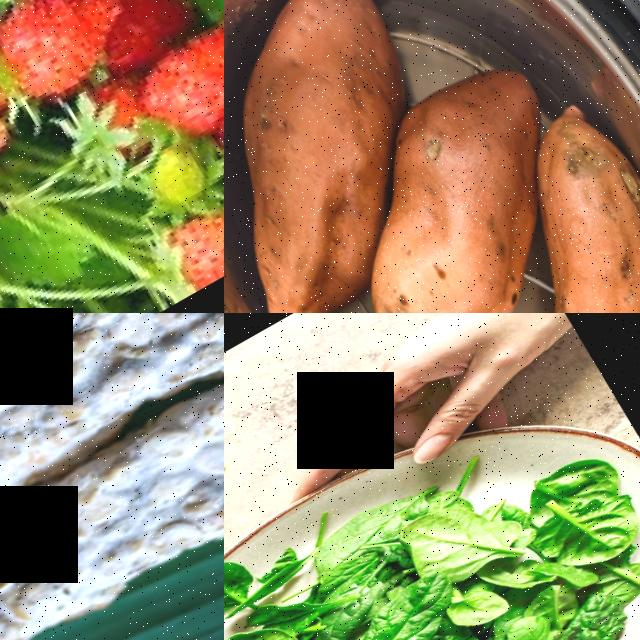spinach: (393, 476, 524, 586), (518, 472, 640, 585), (297, 495, 411, 577), (342, 573, 461, 640), (546, 588, 638, 640), (224, 548, 258, 618)
strawberry: (0, 0, 138, 105), (119, 7, 224, 138), (130, 177, 224, 304), (212, 51, 224, 182)
sweet potato: (224, 0, 507, 313), (438, 93, 640, 313)
tempeh: (0, 313, 224, 640), (0, 313, 224, 583), (0, 313, 224, 443)
